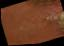plaque psoriasis: (0, 0, 60, 14), (52, 0, 64, 37)
